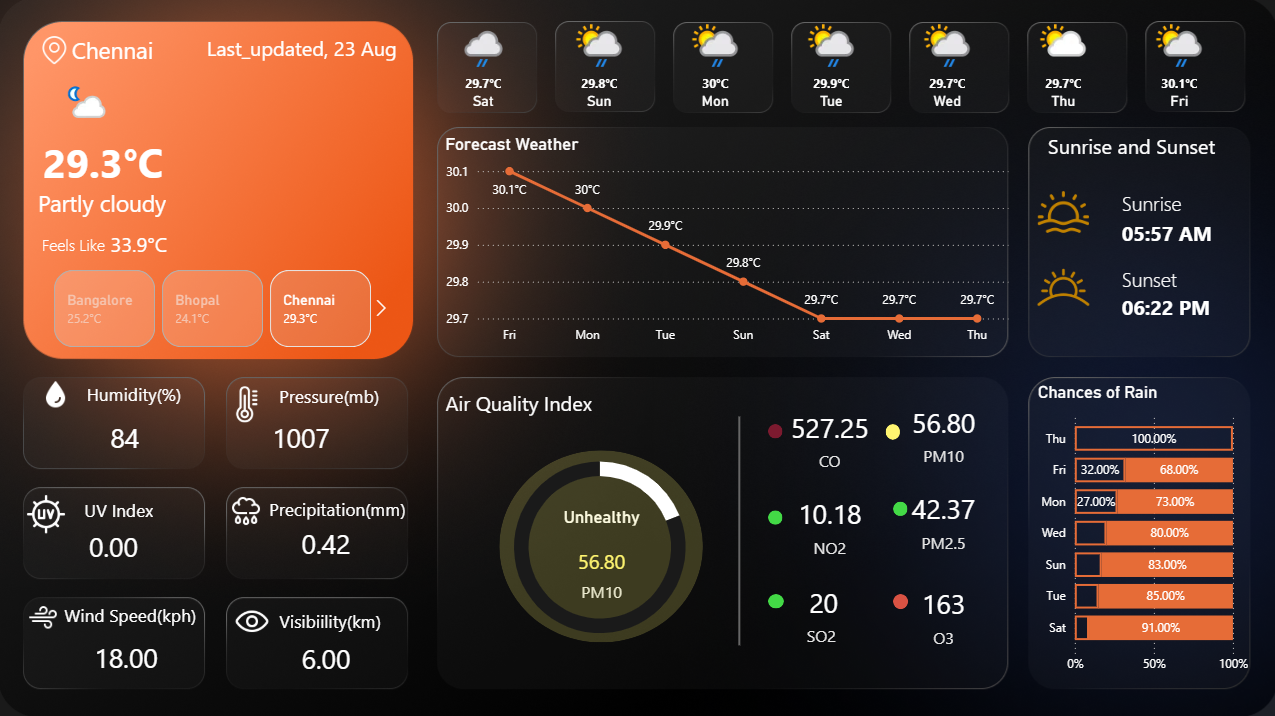

This screenshot's page, from the dashboard's own definition file:
{"tool":"powerbi","page":{"name":"Page 1","canvas":[1280,720],"ordinal":0},"visuals":[{"type":"advancedSlicerVisual","fields":{"Values":["Locations.City"]},"box":[31.8,266.4,367.7,87.8],"z":0},{"type":"shape","box":[1123.4,215.1,118.9,38],"z":1000},{"type":"shape","box":[40.5,180.9,306.1,45.5],"z":2000},{"type":"shape","box":[73.4,27.8,110.1,46.8],"z":3000},{"type":"shape","box":[177.1,25.3,221.4,46.8],"z":4000},{"type":"image","box":[38,27.8,38,46.8],"z":5000},{"type":"image","box":[220.9,489.6,54,44.2],"z":6000},{"type":"image","box":[21.5,489.6,54.4,50.6],"z":7000},{"type":"image","box":[230.2,597.1,48.1,49.3],"z":8000},{"type":"image","box":[221.4,382.1,55.7,45.5],"z":9000},{"type":"image","box":[23.3,598.8,42.9,39.3],"z":10000},{"type":"image","box":[39.2,364.3,38,63.3],"z":11000},{"type":"image","box":[1026,248,78.4,82.2],"z":12000},{"type":"image","box":[1034.8,182.2,60.7,60.7],"z":13000},{"type":"cardVisual","fields":{"Data":["Min(current_weather.Condition Icon URL)"]},"box":[44.3,67,93.6,79.7],"z":14000},{"type":"shape","box":[88.3,371.8,120.2,47.9],"z":15000},{"type":"shape","box":[281,374.2,119,46.6],"z":16000},{"type":"shape","box":[281,598.8,121.5,46.6],"z":17000},{"type":"shape","box":[66.3,592.6,158.3,46.6],"z":18000},{"type":"shape","box":[271.2,485.9,171.8,46.6],"z":19000},{"type":"shape","box":[85.9,487.1,100.6,46.6],"z":20000},{"type":"card","fields":{"Values":["Sum(current_weather.Humidity (%))"]},"box":[75.7,404.1,101.4,72.6],"z":21000},{"type":"card","fields":{"Values":["Sum(current_weather.Visibility (km))"]},"box":[277.1,623.7,101.2,73.4],"z":22000},{"type":"card","fields":{"Values":["Sum(current_weather.Wind (kph))"]},"box":[77.2,623.5,101.4,72.6],"z":23000},{"type":"card","fields":{"Values":["Sum(current_weather.Precipitation (mm))"]},"box":[276.9,510,101.4,72.6],"z":24000},{"type":"card","fields":{"Values":["Sum(current_weather.UV Index)"]},"box":[64.5,512.4,101.2,72.1],"z":25000},{"type":"card","fields":{"Values":["Sum(current_weather.Pressure (mb))"]},"box":[252.7,404.1,101.4,72.6],"z":26000},{"type":"advancedSlicerVisual","fields":{"Values":["forecast_weather.Day_name"]},"box":[426.3,11.4,816,125.2],"z":27000},{"type":"lineChart","title":"Forecast Weather","fields":{"Y":["Sum(forecast_weather.Avg Temp (C))"],"Category":["forecast_weather.Day_name"]},"box":[442.8,135.4,573.1,218.9],"z":28000},{"type":"shape","box":[1050,122.7,192.3,46.8],"z":29000},{"type":"shape","box":[1123.4,273.3,156.9,68.3],"z":30000},{"type":"shape","box":[1123.4,187.2,78.4,32.9],"z":31000},{"type":"shape","box":[1123.4,264.4,68.3,30.4],"z":32000},{"type":"hundredPercentStackedBarChart","title":"Chances of Rain","fields":{"Y":["forecast_weather.Left_value_rain","Sum(forecast_weather.Chance of Rain (%))"],"Category":["forecast_weather.Day_name"]},"box":[1034.8,382.1,220.1,301.1],"z":33000},{"type":"card","fields":{"Values":["Sum(current_weather.PM10 (μg/m³))"]},"box":[884.3,398.5,124,73.4],"z":34000},{"type":"card","fields":{"Values":["Sum(current_weather.PM2.5 (μg/m³))"]},"box":[884.3,484.5,124,73.4],"z":35000},{"type":"card","fields":{"Values":["Sum(current_weather.O3 (μg/m³))"]},"box":[884.3,579.4,124,73.4],"z":36000},{"type":"card","fields":{"Values":["Sum(current_weather.CO (μg/m³))"]},"box":[770.4,403.6,124,73.4],"z":37000},{"type":"card","fields":{"Values":["Sum(current_weather.NO2 (μg/m³))"]},"box":[770.4,489.6,124,73.4],"z":38000},{"type":"card","fields":{"Values":["Sum(current_weather.SO2 (μg/m³))"]},"box":[763.2,579.1,123.9,73.6],"z":39000},{"type":"shape","box":[45.5,136.6,134.1,50.6],"z":40000},{"type":"shape","box":[770.6,424.5,14.7,14.7],"z":41000},{"type":"shape","box":[447.8,379.5,149.3,46.8],"z":42000},{"type":"shape","box":[887.1,424.5,14.7,16],"z":43000},{"type":"shape","box":[770.6,511.7,14.7,14.7],"z":44000},{"type":"shape","box":[894.5,503.1,14.7,14.7],"z":45000},{"type":"shape","box":[770.6,595.1,16,14.7],"z":46000},{"type":"shape","box":[894.4,594.6,15.2,15.2],"z":47000},{"type":"shape","box":[735,417.5,12.7,229],"z":48000},{"type":"card","fields":{"Values":["Sum(current_weather.PM10 (μg/m³))"]},"box":[546.5,507.3,115.1,115.1],"z":49000},{"type":"shape","box":[501,451.6,203.7,192.3],"z":50000},{"type":"donutChart","fields":{"Y":["Sum(current_weather.PM10 (μg/m³))","_Measures.Left_value_PM10"]},"box":[474.8,436.8,254,224.5],"z":51000},{"type":"shape","box":[112.6,226.4,88.6,36.7],"z":52000},{"type":"shape","box":[44.3,222.7,82.2,45.5],"z":53000}]}

Visuals, with their boxes in screenshot pixels (x1, y1, x2, y2), scaled from the page's 1280x720 canvas onto the 1275x716 screenshot:
advancedSlicerVisual - Locations.City: Rect(32, 265, 398, 352)
shape: Rect(1119, 214, 1237, 252)
shape: Rect(40, 180, 345, 225)
shape: Rect(73, 28, 183, 74)
shape: Rect(176, 25, 397, 72)
image: Rect(38, 28, 76, 74)
image: Rect(220, 487, 274, 531)
image: Rect(21, 487, 76, 537)
image: Rect(229, 594, 277, 643)
image: Rect(221, 380, 276, 425)
image: Rect(23, 595, 66, 635)
image: Rect(39, 362, 77, 425)
image: Rect(1022, 247, 1100, 328)
image: Rect(1031, 181, 1091, 242)
cardVisual - Min(current_weather.Condition Icon URL): Rect(44, 67, 137, 146)
shape: Rect(88, 370, 208, 417)
shape: Rect(280, 372, 398, 418)
shape: Rect(280, 595, 401, 642)
shape: Rect(66, 589, 224, 636)
shape: Rect(270, 483, 441, 530)
shape: Rect(86, 484, 186, 531)
card - Sum(current_weather.Humidity (%)): Rect(75, 402, 176, 474)
card - Sum(current_weather.Visibility (km)): Rect(276, 620, 377, 693)
card - Sum(current_weather.Wind (kph)): Rect(77, 620, 178, 692)
card - Sum(current_weather.Precipitation (mm)): Rect(276, 507, 377, 579)
card - Sum(current_weather.UV Index): Rect(64, 510, 165, 581)
card - Sum(current_weather.Pressure (mb)): Rect(252, 402, 353, 474)
advancedSlicerVisual - forecast_weather.Day_name: Rect(425, 11, 1237, 136)
"Forecast Weather" lineChart: Rect(441, 135, 1012, 352)
shape: Rect(1046, 122, 1237, 169)
shape: Rect(1119, 272, 1274, 340)
shape: Rect(1119, 186, 1197, 219)
shape: Rect(1119, 263, 1187, 293)
"Chances of Rain" hundredPercentStackedBarChart: Rect(1031, 380, 1250, 679)
card - Sum(current_weather.PM10 (μg/m³)): Rect(881, 396, 1004, 469)
card - Sum(current_weather.PM2.5 (μg/m³)): Rect(881, 482, 1004, 555)
card - Sum(current_weather.O3 (μg/m³)): Rect(881, 576, 1004, 649)
card - Sum(current_weather.CO (μg/m³)): Rect(767, 401, 891, 474)
card - Sum(current_weather.NO2 (μg/m³)): Rect(767, 487, 891, 560)
card - Sum(current_weather.SO2 (μg/m³)): Rect(760, 576, 884, 649)
shape: Rect(45, 136, 179, 186)
shape: Rect(768, 422, 782, 437)
shape: Rect(446, 377, 595, 424)
shape: Rect(884, 422, 898, 438)
shape: Rect(768, 509, 782, 523)
shape: Rect(891, 500, 906, 515)
shape: Rect(768, 592, 784, 606)
shape: Rect(891, 591, 906, 606)
shape: Rect(732, 415, 745, 643)
card - Sum(current_weather.PM10 (μg/m³)): Rect(544, 504, 659, 619)
shape: Rect(499, 449, 702, 640)
donutChart - Sum(current_weather.PM10 (μg/m³)) x _Measures.Left_value_PM10: Rect(473, 434, 726, 658)
shape: Rect(112, 225, 200, 262)
shape: Rect(44, 221, 126, 267)
